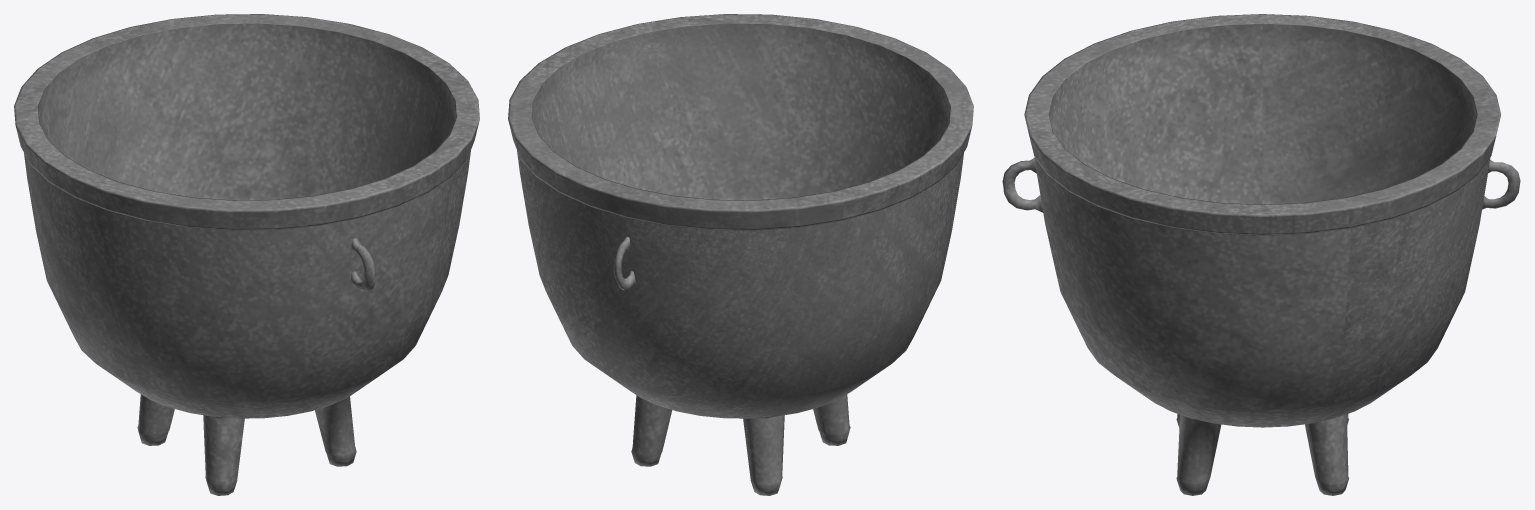
The model's file is SM_Cauldron.fbx.
3 renders of one model, left to right at view 1: azimuth 30°, elevation 25°; view 2: azimuth 150°, elevation 25°; view 3: azimuth 270°, elevation 25°, orthographic. The views are drawn at different scales.
Visible parts, largest first — view 1: SM_Cauldron_LOD0; view 2: SM_Cauldron_LOD0; view 3: SM_Cauldron_LOD0.
Part boxes in pixels (x1,y1,x2,y2): SM_Cauldron_LOD0: [14, 14, 479, 495]; SM_Cauldron_LOD0: [508, 14, 973, 495]; SM_Cauldron_LOD0: [1002, 14, 1520, 495].
Bounding box in the file's own units: 67.81 × 73.67 × 54.34.
Materials: 1 (1 with a texture image).
